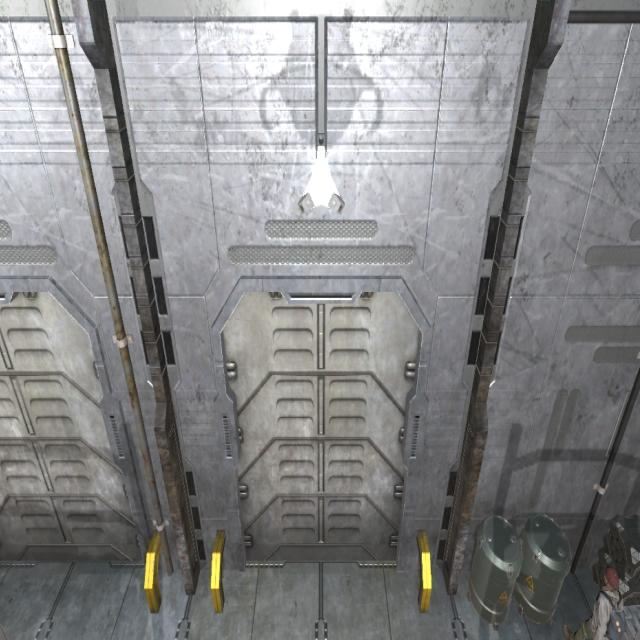thiefs: (561, 562, 630, 640)
